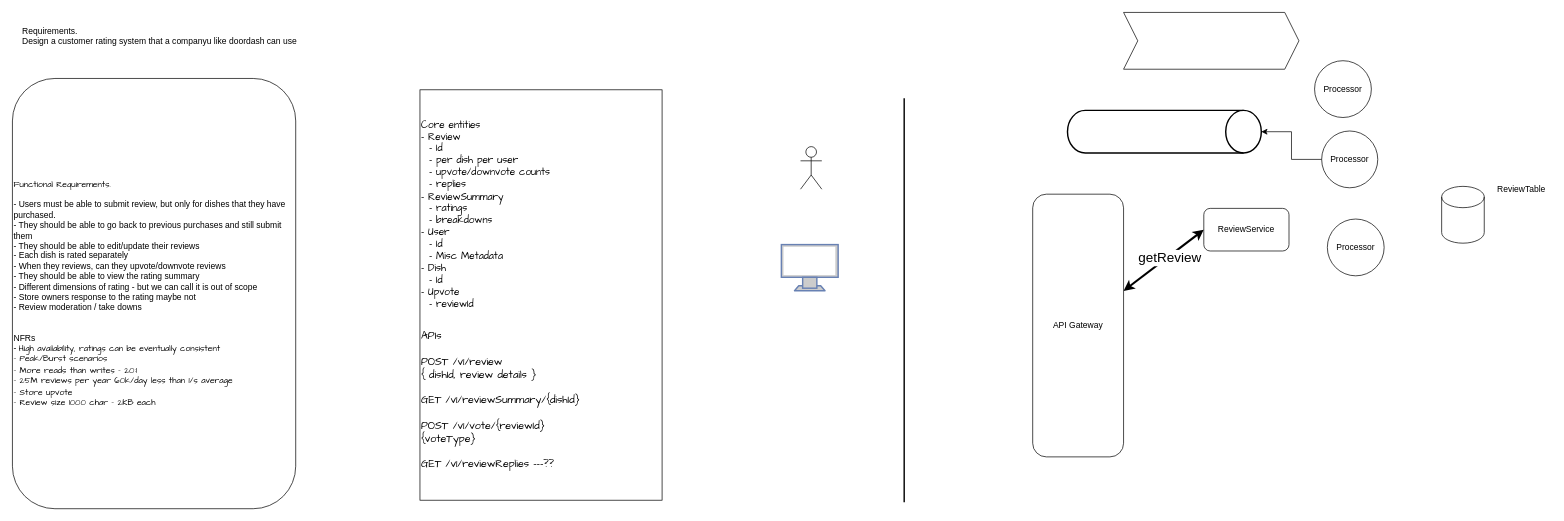
Image size: 1564x521. Some labels were removed from this diagram. Here are the shapes that lost their labels. From the top down, the centre of each, then its label:
At pixel 1211 40: "Message Queues".
At pixel 1164 131: "Message Queue - ReviewPosted".
At pixel 811 167: "Actor".
At pixel 1462 214: "ReviewDB".
